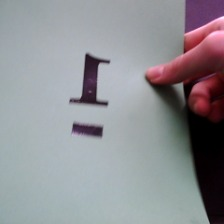green1: (67, 45, 118, 148)
